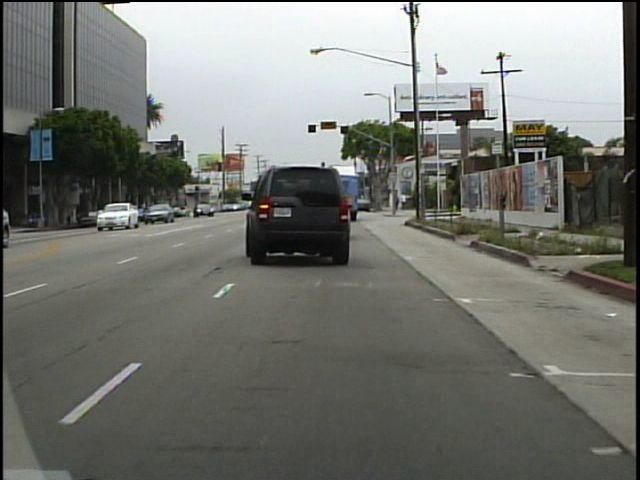person: (393, 189, 401, 214), (401, 190, 410, 212)
